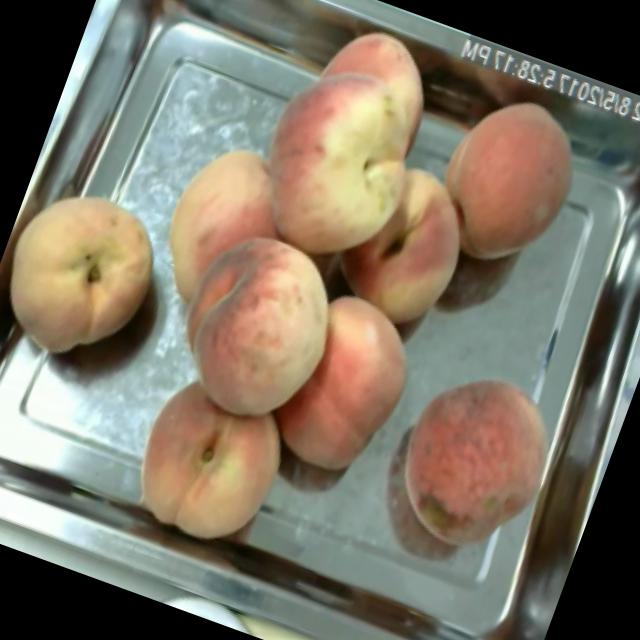Fruit: (226, 0, 463, 283), (368, 346, 582, 578), (158, 212, 364, 446), (0, 162, 187, 387), (410, 72, 603, 288), (256, 275, 438, 494), (110, 366, 308, 566), (318, 142, 494, 346)
